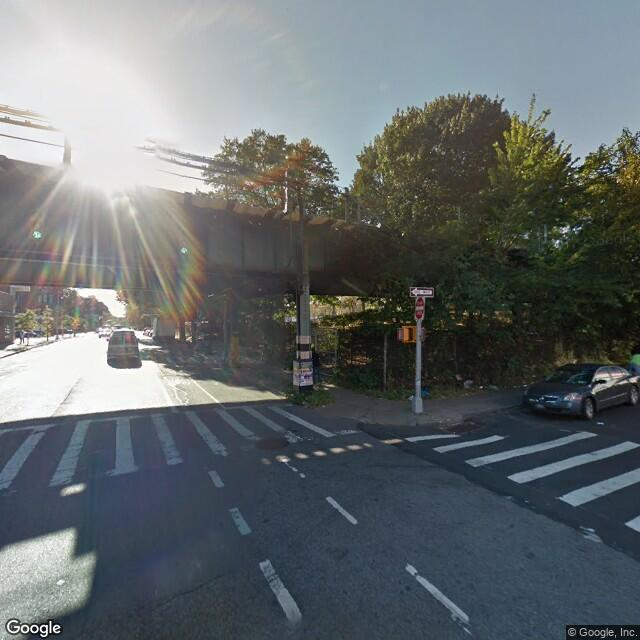litter: (462, 378, 474, 388), (424, 390, 429, 396), (488, 385, 495, 389), (597, 421, 603, 424)
